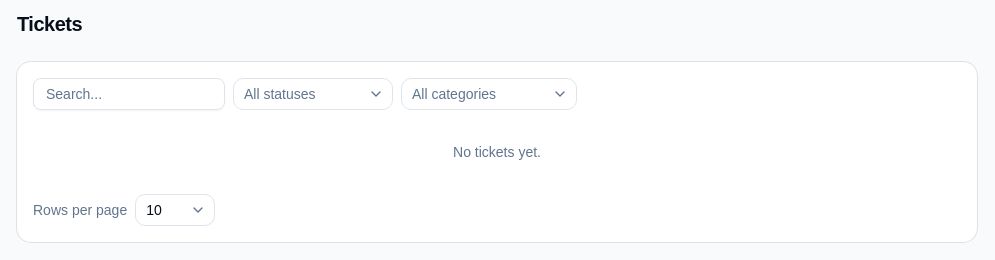
Test: TicketsPage — filtering › "Clear" button is hidden by default and appears when a filter is active
This screenshot has width=995, height=260.
Expected: the button "Clear" is not shown
In the field with placeholder "Search...": (129, 94) left=33, top=78, right=225, bottom=110, type "test"
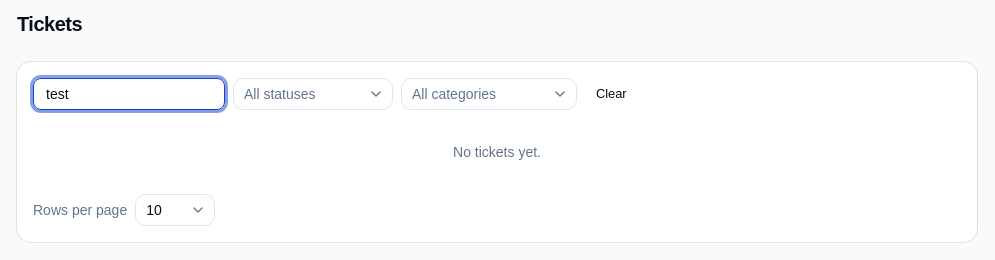
Now the button "Clear" is shown, box left=585, top=80, right=638, bottom=108
